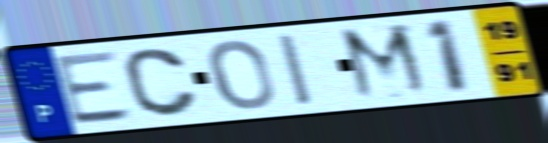1: (423, 17, 476, 96)
C: (120, 46, 202, 120)
E: (52, 48, 139, 128)
I: (274, 31, 318, 109)
M: (336, 21, 436, 104)
O: (206, 38, 278, 113)
